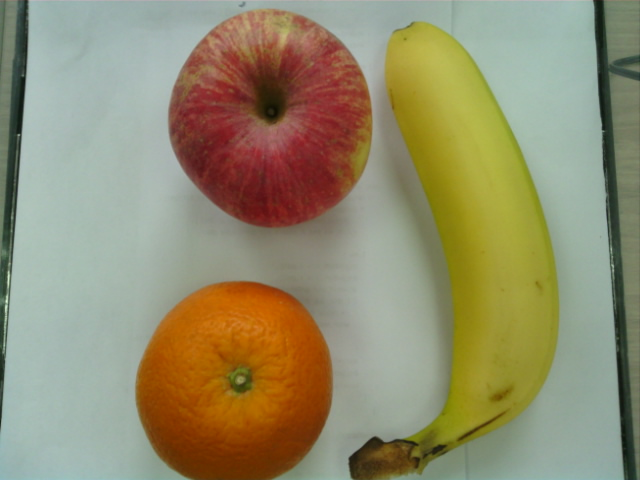fresh_orange: (136, 280, 336, 480)
normal_apple: (170, 9, 374, 228)
normal_banana: (386, 20, 563, 473)
